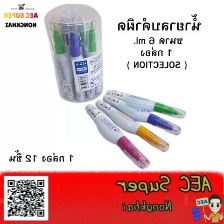correction_fluid: (84, 101, 152, 170), (92, 97, 171, 153), (101, 93, 182, 137), (104, 88, 187, 121), (48, 19, 75, 101), (65, 21, 88, 102), (84, 18, 101, 99)
